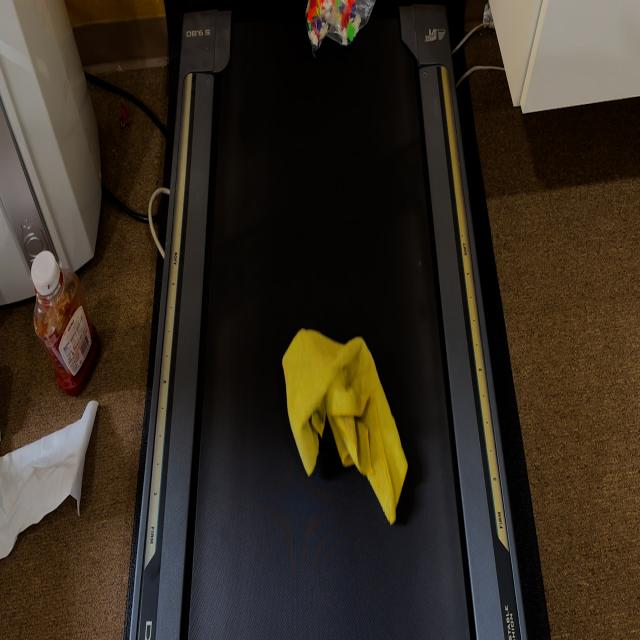Trash: (281, 327, 410, 530), (304, 0, 378, 58)
